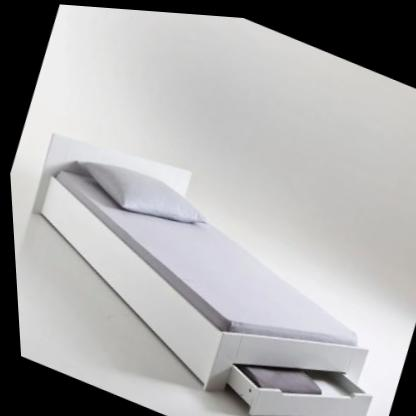Bed: (5, 113, 416, 416)
